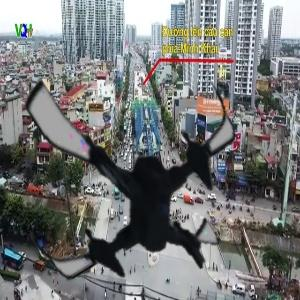drone: (1, 46, 256, 300)
